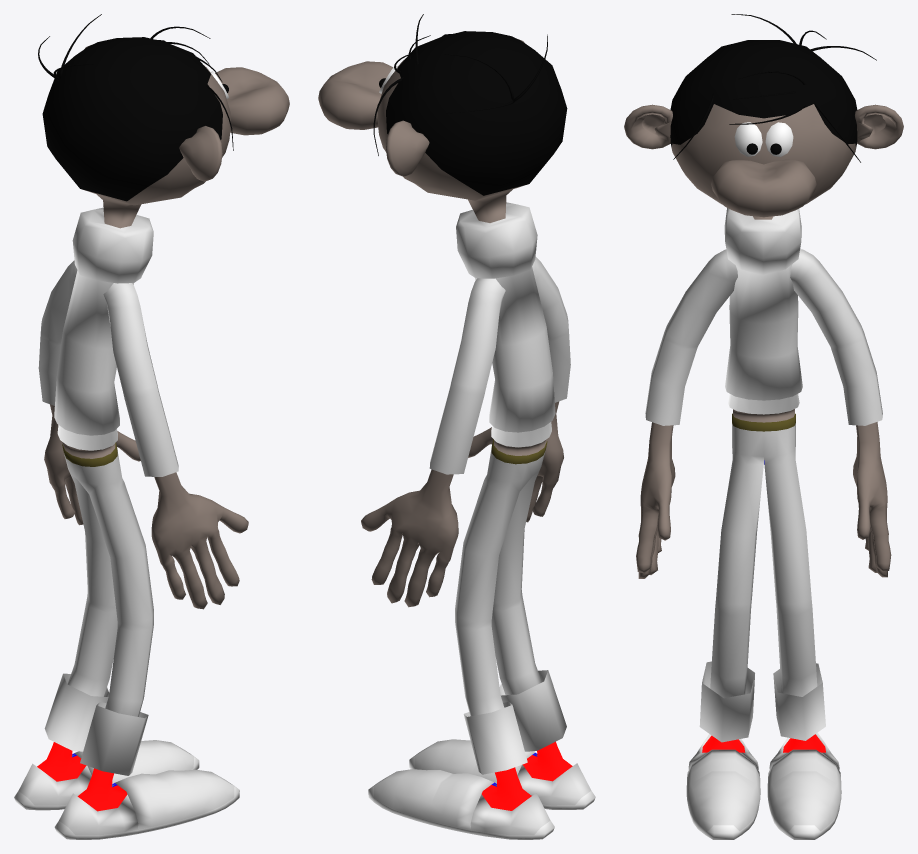
Rendered from spectator_plywood_short.dae.
3 renders of one model, left to right at view 1: azimuth 30°, elevation 25°; view 2: azimuth 150°, elevation 25°; view 3: azimuth 270°, elevation 25°, orthographic.
Parts seen in each view (by area): view 1: Spectator; view 2: Spectator; view 3: Spectator.
Boxes of the visible parts, box(x1,y1,x2,y2) form: Spectator: box(14, 14, 289, 839); Spectator: box(318, 14, 595, 839); Spectator: box(624, 14, 903, 839).
Bounding box in the file's own units: 0.4 × 0.4 × 1.2.
